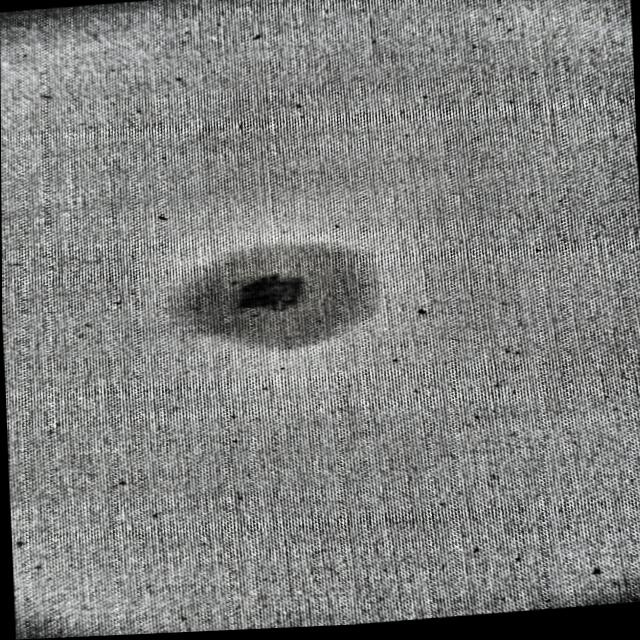Hole: (170, 225, 379, 361), (230, 271, 304, 318), (236, 273, 297, 312)
